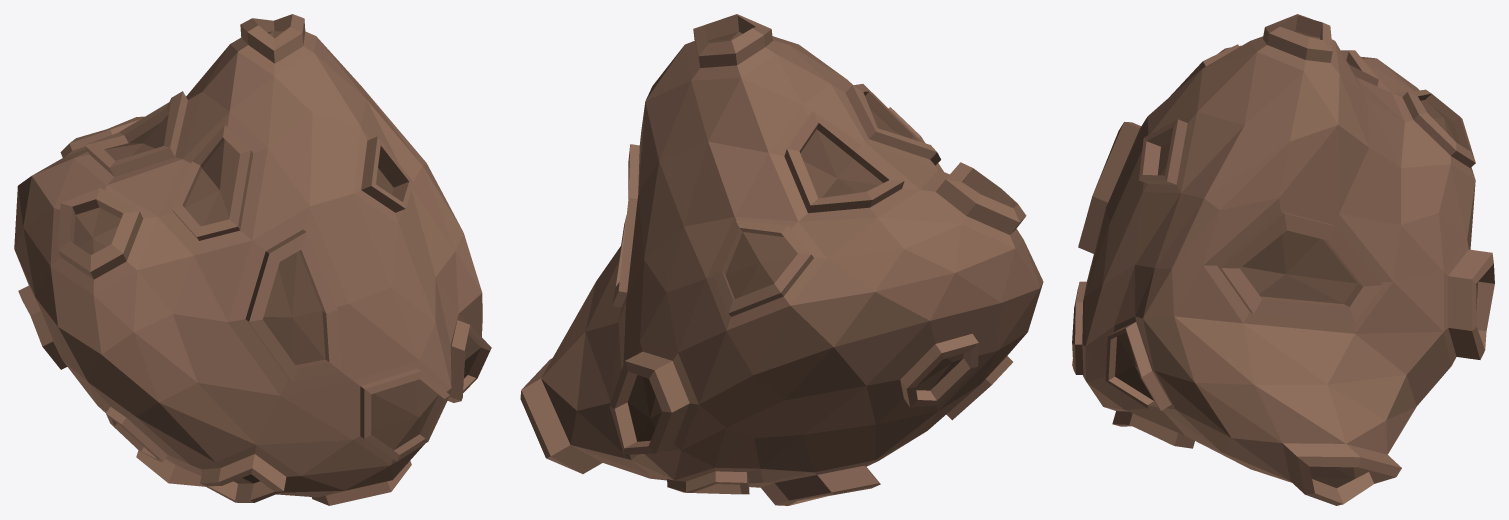
Rendered from Meteor2.fbx.
3 renders of one model, left to right at view 1: azimuth 30°, elevation 25°; view 2: azimuth 150°, elevation 25°; view 3: azimuth 270°, elevation 25°, orthographic. The views are drawn at different scales.
Visible parts, largest first — view 1: Metero2; view 2: Metero2; view 3: Metero2.
Boxes of the visible parts, box(x1,y1,x2,y2) form: Metero2: box(14, 14, 491, 505); Metero2: box(520, 14, 1043, 505); Metero2: box(1072, 14, 1494, 505).
Bounding box in the file's own units: 2.69 × 2.64 × 2.38.
